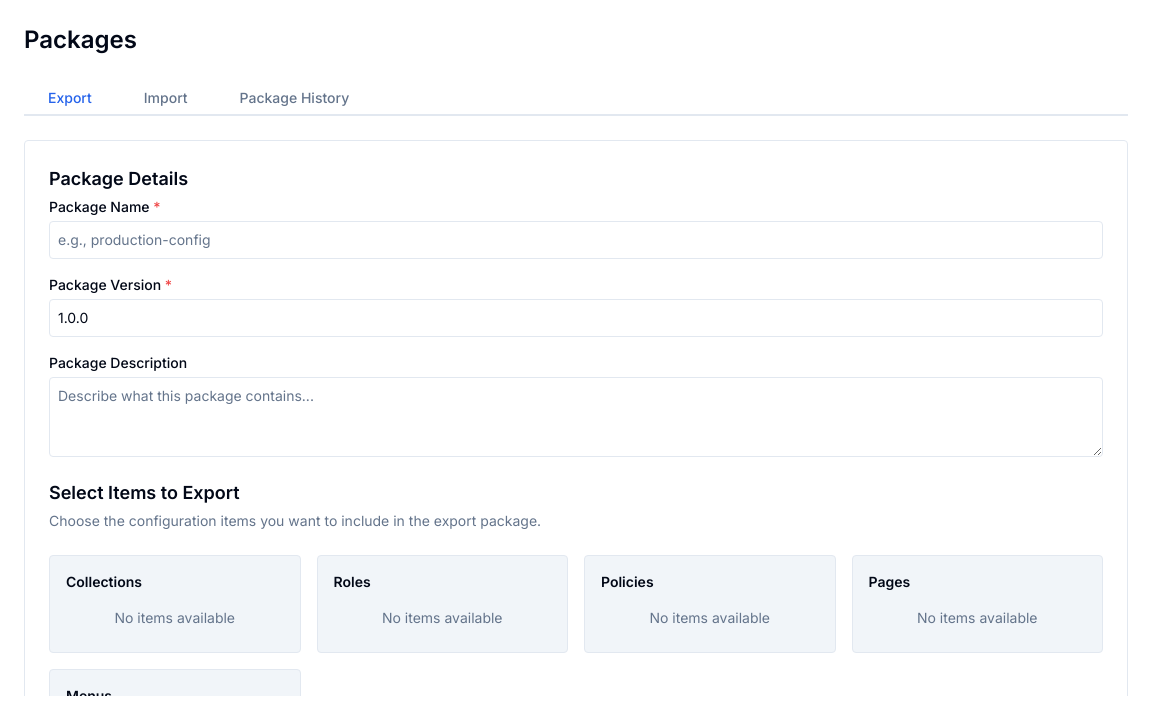
Test: PackagesPage › History Panel - Requirement 9.10 › displays empty state when no history
This screenshot has width=1152, height=720.
Click the tab with test id "tab-history": coordinates (294, 98) [216,80,373,116]
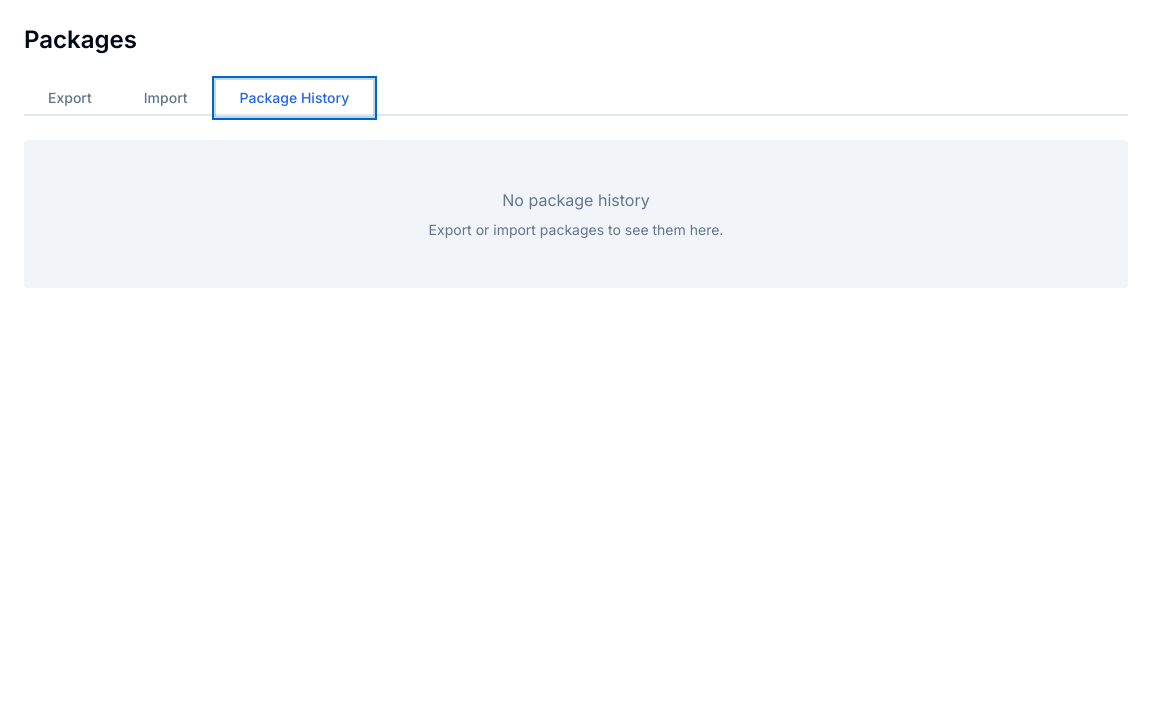
Now the element with test id "history-empty" is shown, box [24,140,1128,288]
